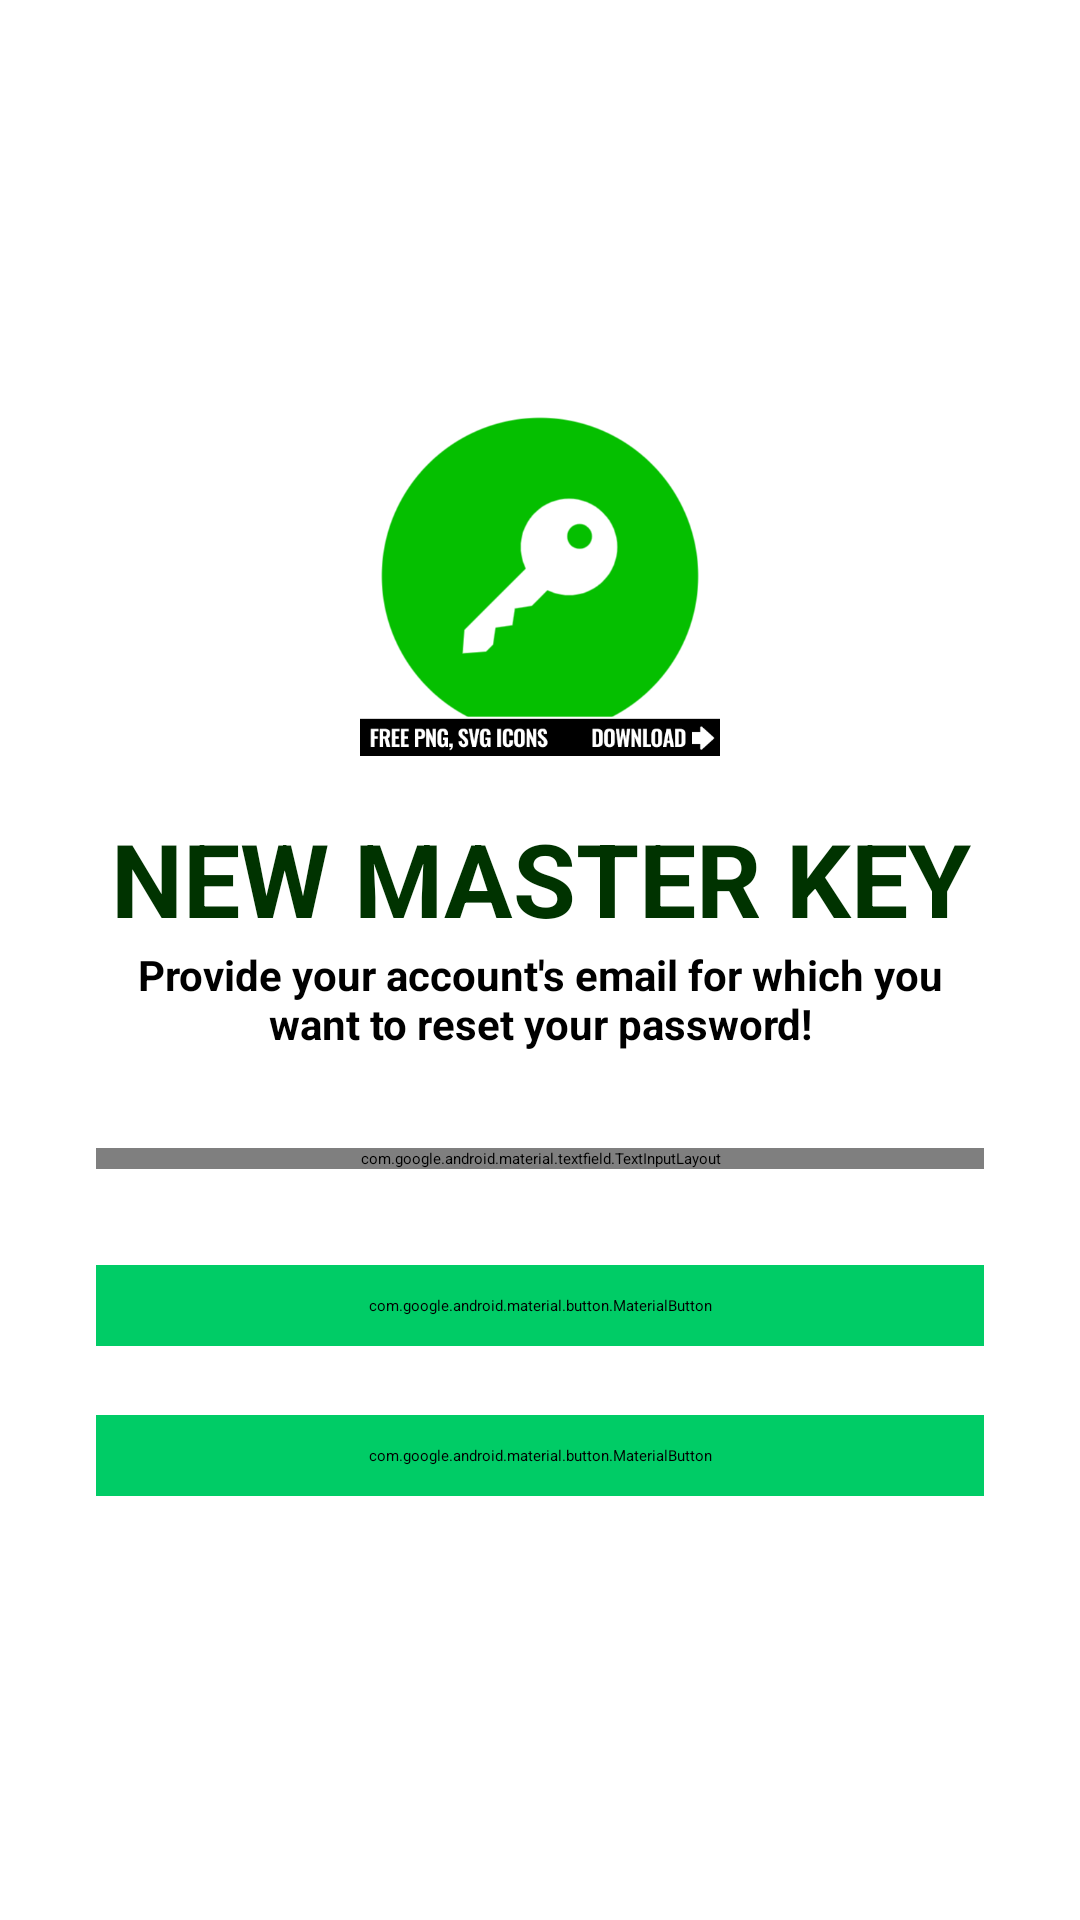

Named icons in this screenshot (1080w x 1920h) and their centers, point (x, y):
keyforgot: point (540, 586)
